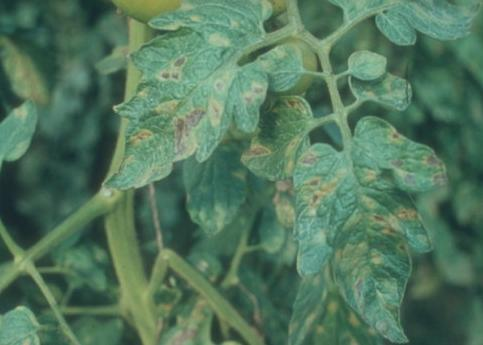Tomato mold leaf: (89, 0, 300, 193), (289, 116, 447, 345), (0, 93, 39, 175), (0, 305, 49, 345), (343, 49, 390, 87)
